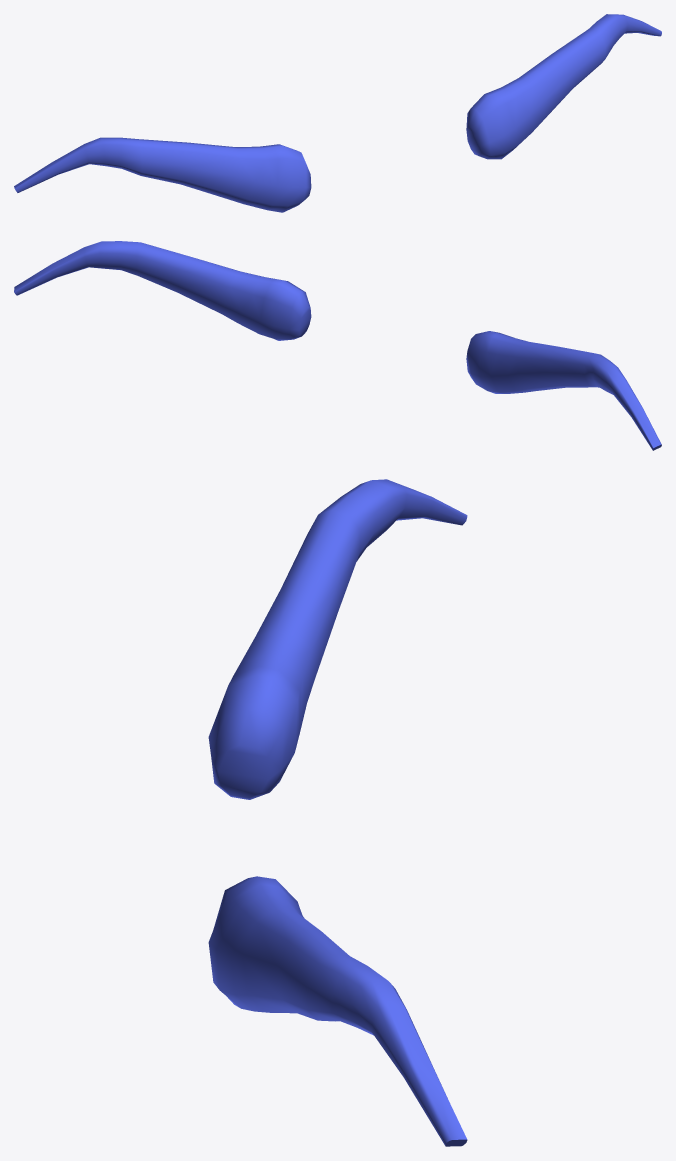
Rendered from Eyebrows_12_03.fbx.
The picture shows the model from 3 angles, top to bottom: view 1: azimuth 30°, elevation 25°; view 2: azimuth 150°, elevation 25°; view 3: azimuth 270°, elevation 25°; orthographic projection. The views are drawn at different scales.
Parts seen in each view (by area): view 1: Eyebrows_12_03; view 2: Eyebrows_12_03; view 3: Eyebrows_12_03.
Boxes of the visible parts, x1=… form: Eyebrows_12_03: x1=14, y1=14, x2=661, y2=212; Eyebrows_12_03: x1=14, y1=241, x2=661, y2=450; Eyebrows_12_03: x1=208, y1=479, x2=467, y2=1146.
Size of the model in its own units: 19.63 by 2.48 by 3.4.
